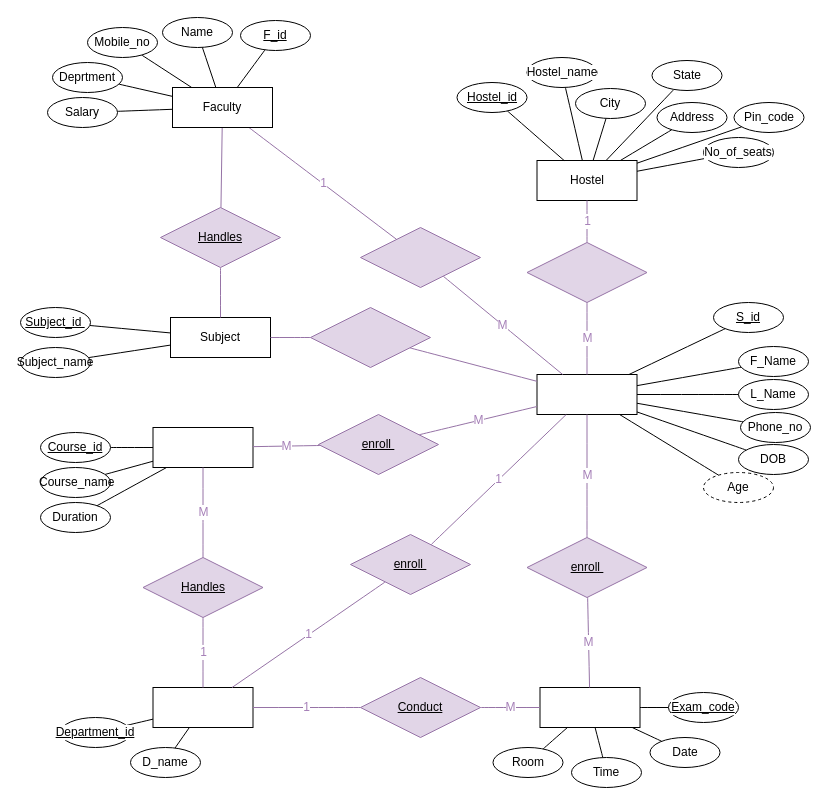
Some shapes in this 828 by 805 pixel diagram are drawn without their labels. The centre of each missing label's shape, as x and y in pixels:
Course: the point at 202,447
Department: the point at 202,707
Exams: the point at 589,707
Live: the point at 586,272
Student: the point at 586,394
Take: the point at 370,337
Teaches: the point at 420,257
